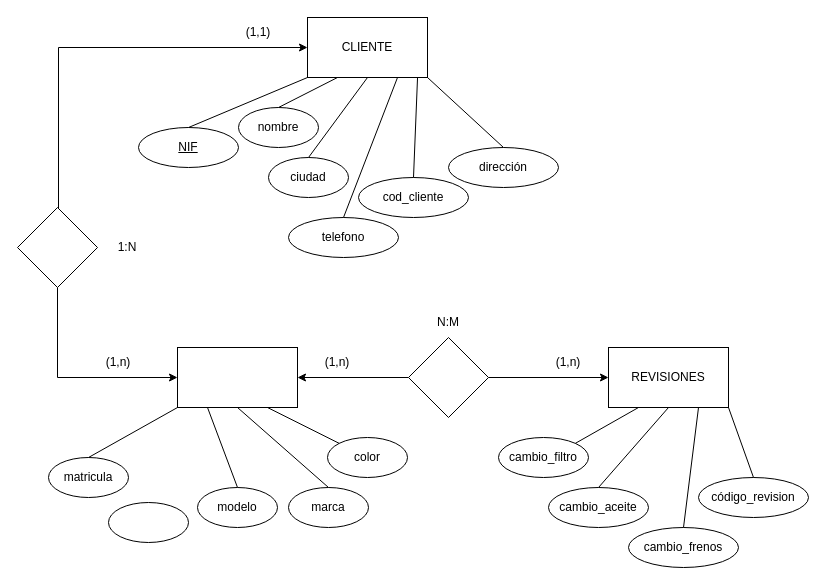
Image size: 826x585. Some labels were removed from this diagram. Here are the shapes that lost their labels. From the top down, the centre of each, then its label:
[57,247]: compra
[237,377]: COCHE
[448,377]: realiza
[148,522]: precio_venta
